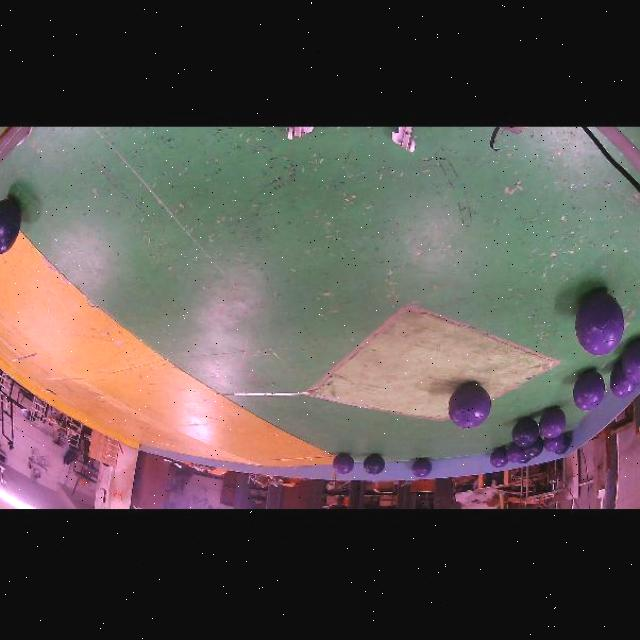B: (0, 198, 21, 254), (511, 417, 539, 447), (364, 454, 385, 474), (523, 436, 543, 457), (555, 434, 571, 454)
P: (575, 291, 624, 355), (448, 381, 491, 428), (572, 369, 604, 411), (610, 361, 636, 397), (539, 407, 566, 439), (622, 338, 640, 383), (333, 453, 355, 473), (543, 433, 565, 452), (412, 458, 432, 478), (490, 447, 509, 468), (506, 443, 525, 462)
